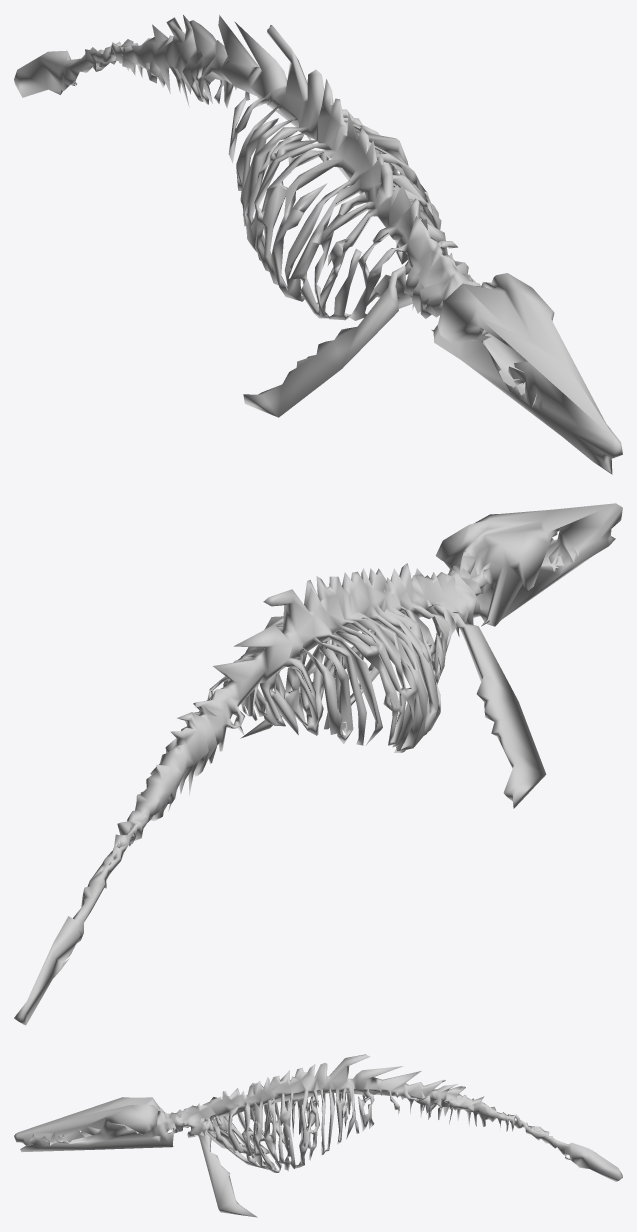
The model's file is huesos.fbx.
The picture shows the model from 3 angles, top to bottom: view 1: azimuth 30°, elevation 25°; view 2: azimuth 150°, elevation 25°; view 3: azimuth 270°, elevation 25°; orthographic projection. The views are drawn at different scales.
Parts seen in each view (by area): view 1: Mesh1; view 2: Mesh1; view 3: Mesh1.
Boxes of the visible parts, <box> form: Mesh1: <box>14,15,622,474</box>; Mesh1: <box>14,503,622,1025</box>; Mesh1: <box>14,1054,622,1217</box>.
Bounding box in the file's own units: 52.51 × 47.77 × 200.
Materials: 1 (1 with a texture image).
